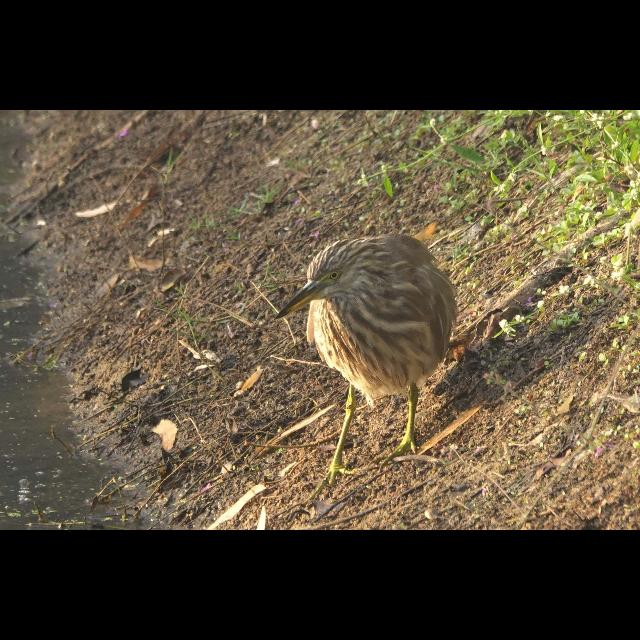heron: (274, 234, 456, 468)
